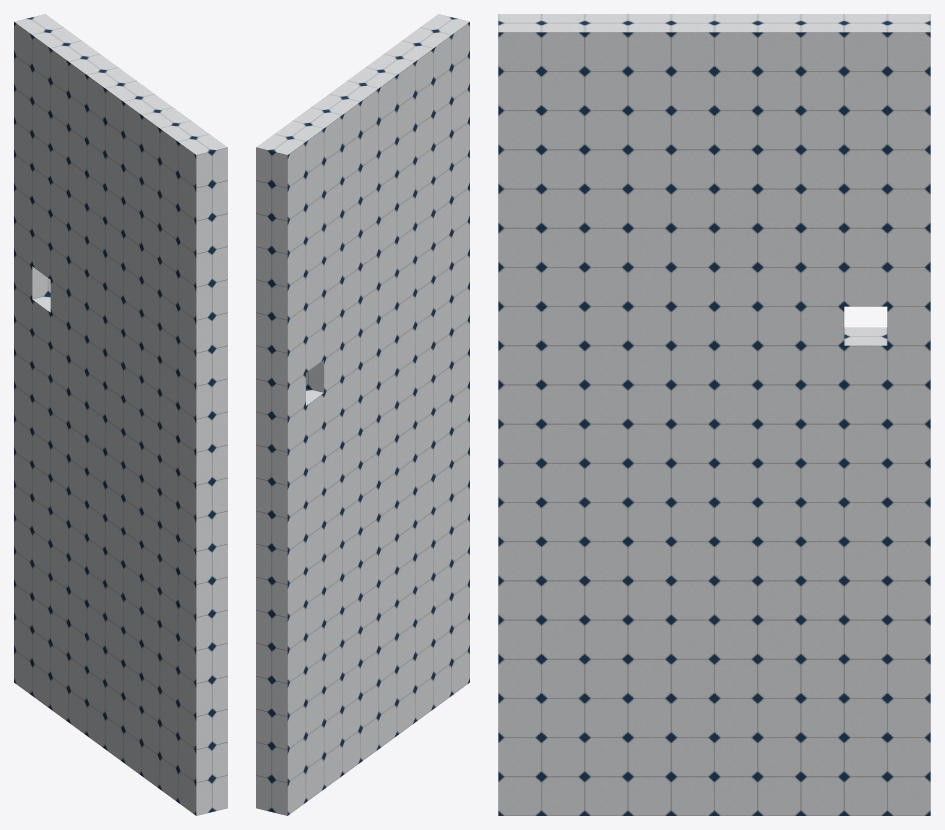
File: backsplash.glb
3 renders of one model, left to right at view 1: azimuth 30°, elevation 25°; view 2: azimuth 150°, elevation 25°; view 3: azimuth 270°, elevation 25°, orthographic. The views are drawn at different scales.
Size of the model in its own units: 0.1 by 2 by 1.
1 material, 1 textured.
